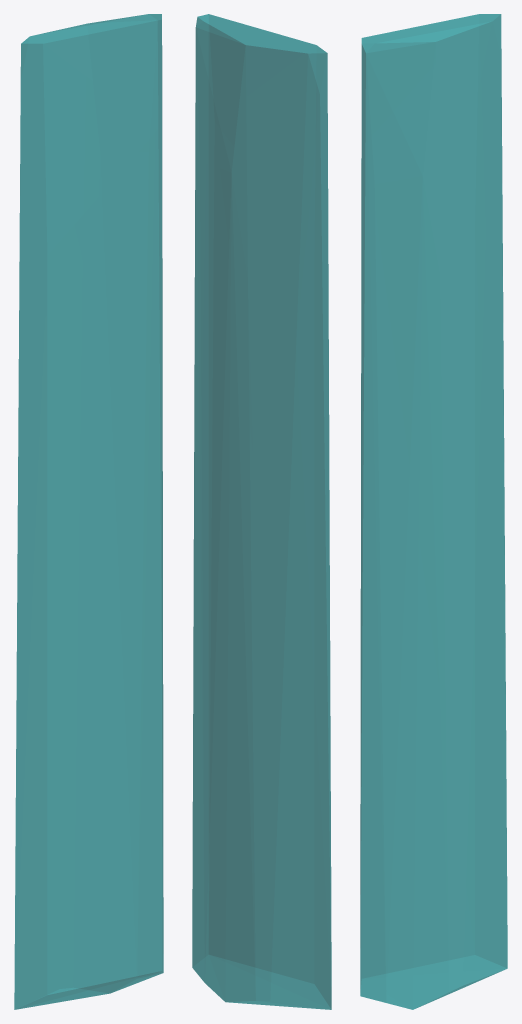
3 renders of one model, left to right at view 1: azimuth 90°, elevation 25°; view 2: azimuth 210°, elevation 25°; view 3: azimuth 270°, elevation 25°, orthographic.
Visible parts, largest first — view 1: Shape_IndexedFaceSet.026_Shape_IndexedFaceSet.790; view 2: Shape_IndexedFaceSet.026_Shape_IndexedFaceSet.790; view 3: Shape_IndexedFaceSet.026_Shape_IndexedFaceSet.790.
Boxes of the visible parts, x1,y1,x2,y2 form: Shape_IndexedFaceSet.026_Shape_IndexedFaceSet.790: (14,14,163,1009); Shape_IndexedFaceSet.026_Shape_IndexedFaceSet.790: (192,14,331,1009); Shape_IndexedFaceSet.026_Shape_IndexedFaceSet.790: (360,14,507,1009).
Size of the model in its own units: 0.0865 by 1.21 by 0.1669.
